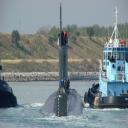submarine: (41, 4, 87, 118)
